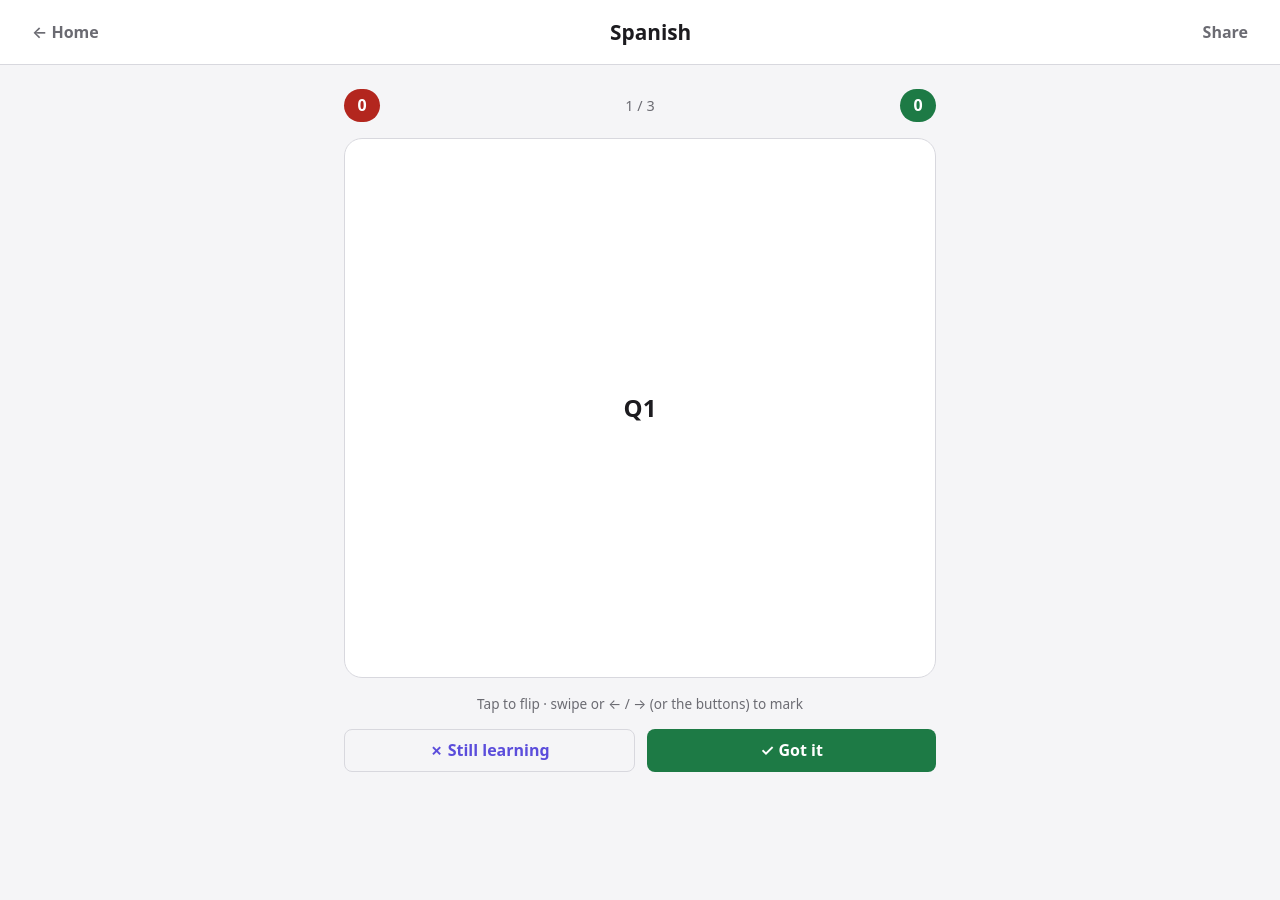
Test case: PracticePage › records each answer and shows the in-session streak after 2 in a row (FLA-99)
Expected: the text "Q1" is shown, [624,391,656,424]
Click the button "✓ Got it" at [792, 750], box [647,729,936,772]
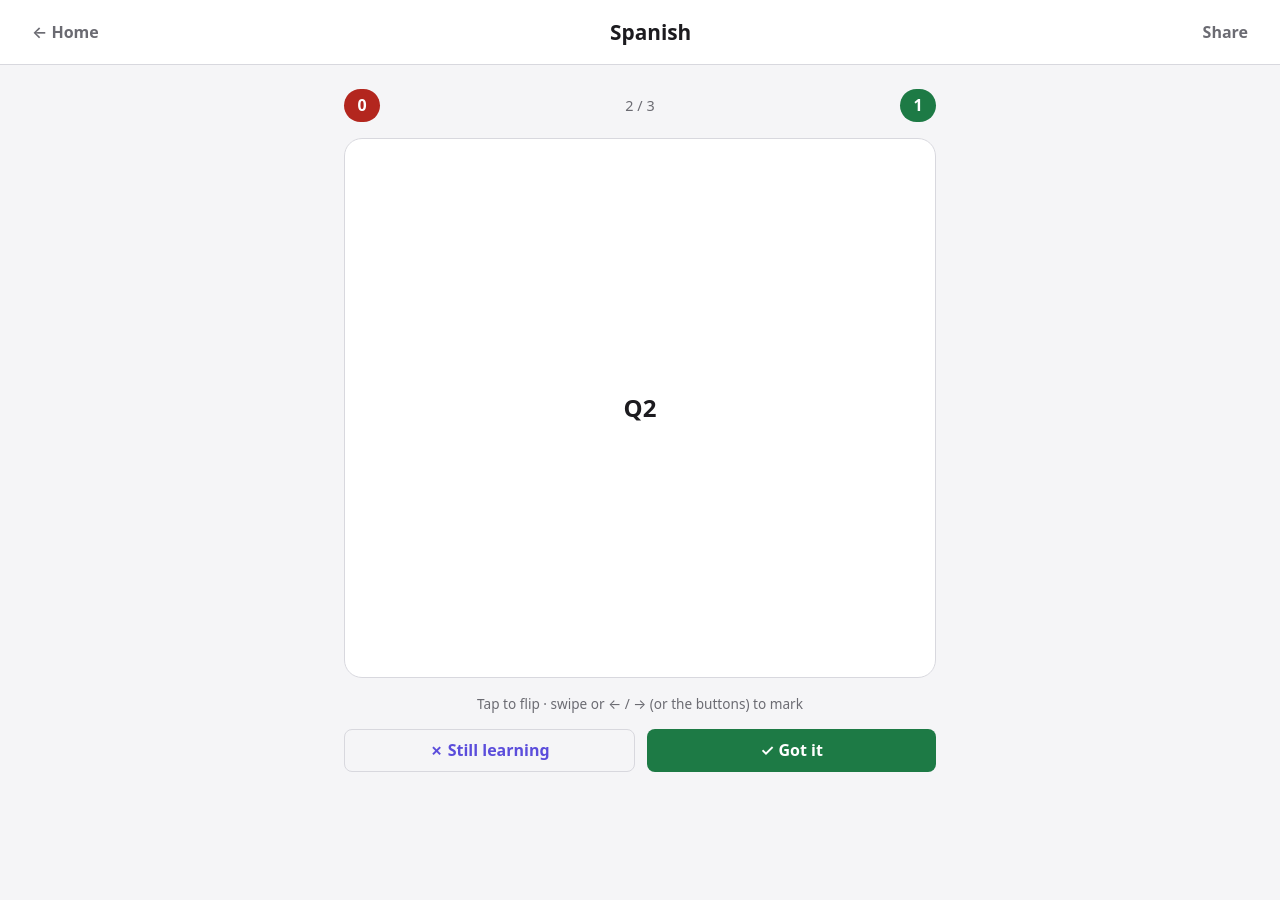
Expected: the text "in a row" is not shown
Result: the text "Q2" is shown at [624,391,656,424]
Click the button "✓ Got it" at [792, 750], box [647,729,936,772]
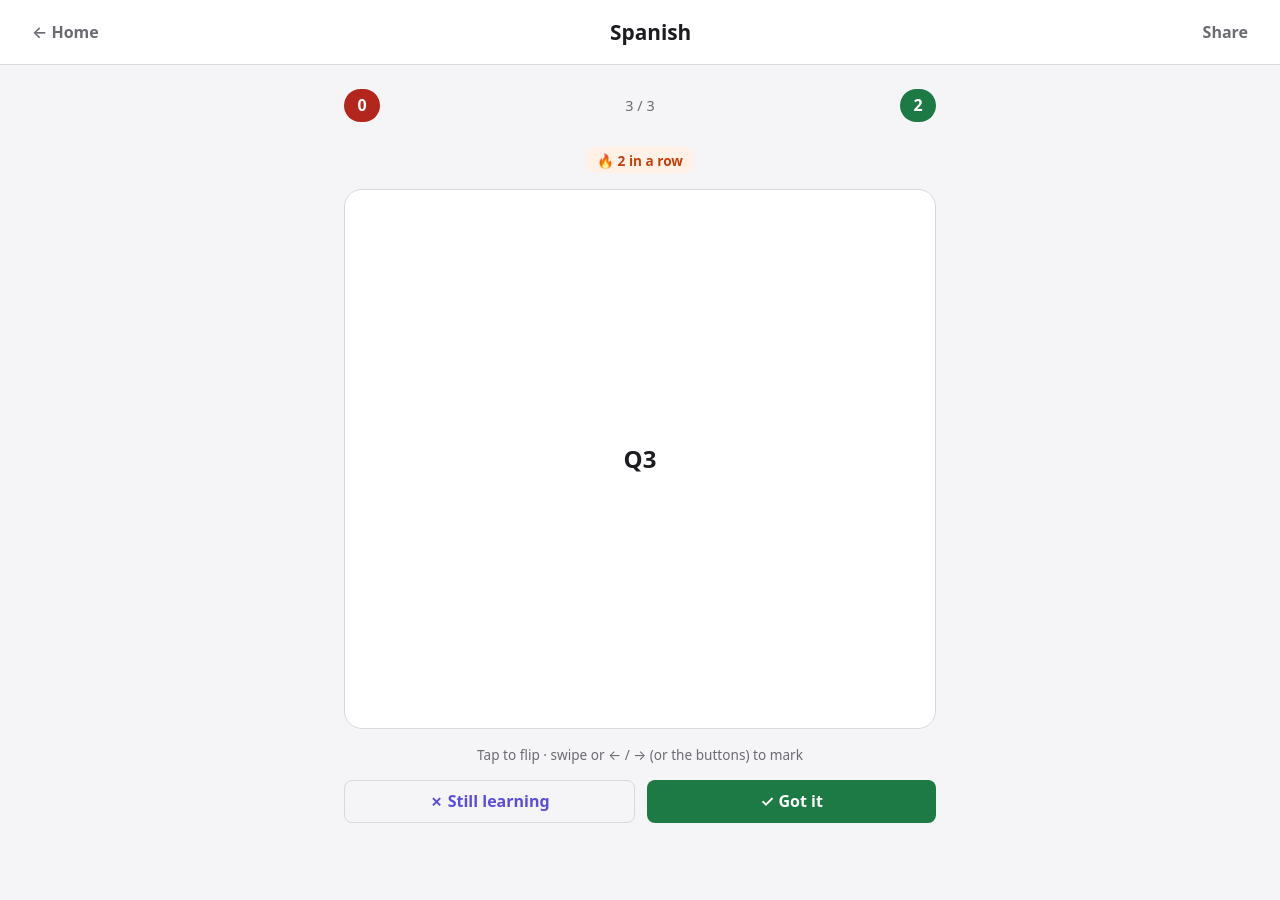
Result: the text "🔥 2 in a row" is shown at [585,147,695,173]
